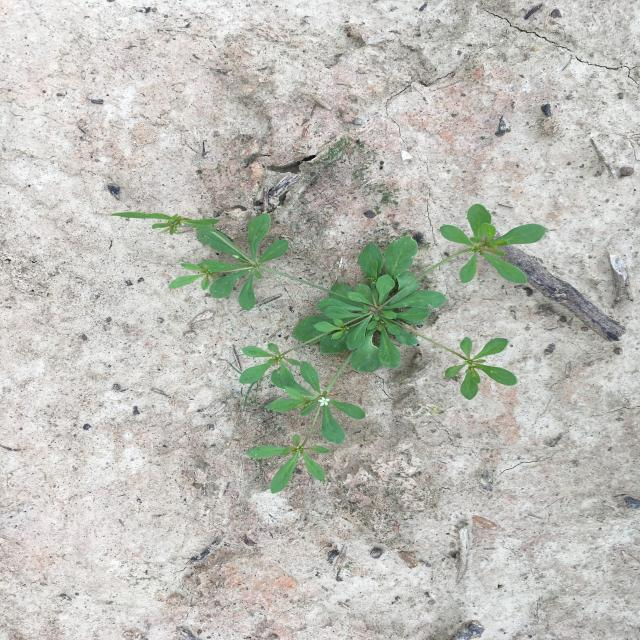Carpetweed: (111, 203, 547, 494)
